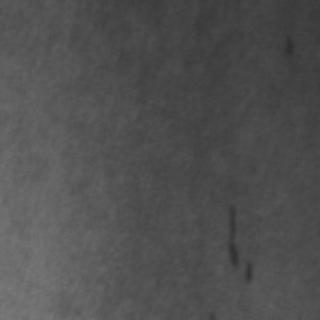inclusion: (219, 198, 257, 286), (275, 26, 297, 60)
